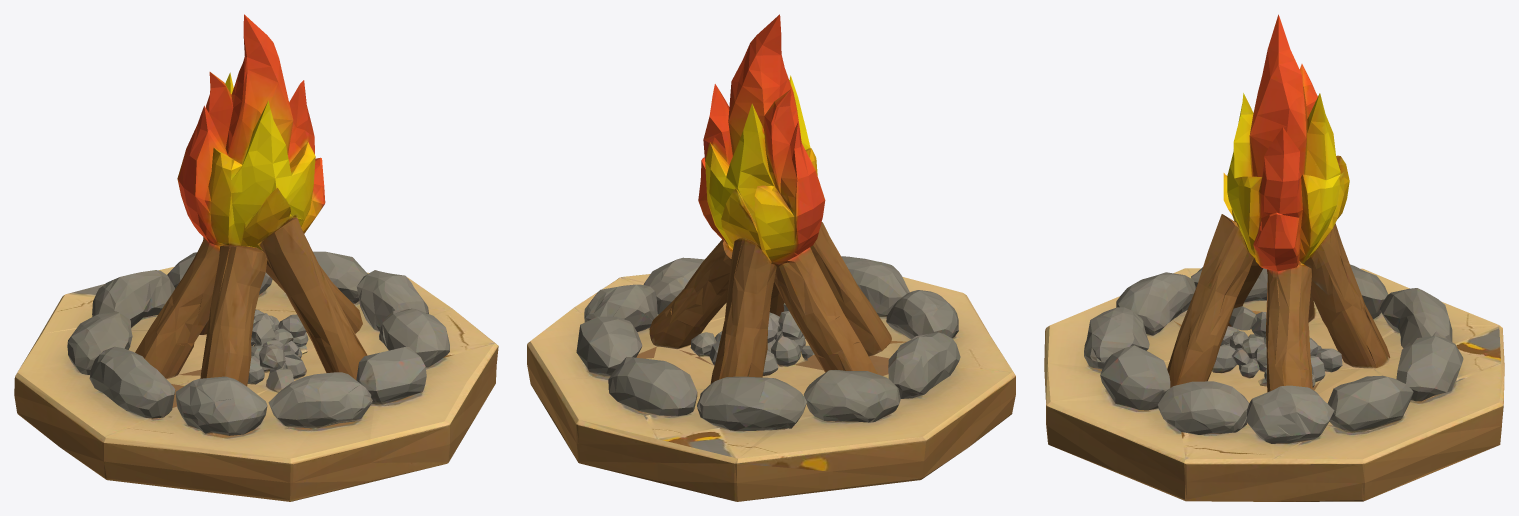
Rendered from island-bonfire.glb.
The picture shows the model from 3 angles, left to right: view 1: azimuth 30°, elevation 25°; view 2: azimuth 150°, elevation 25°; view 3: azimuth 270°, elevation 25°; orthographic projection.
Parts seen in each view (by area): view 1: tripo_node_1a4b62d1-707a-4da2-a524-2340071a0818; view 2: tripo_node_1a4b62d1-707a-4da2-a524-2340071a0818; view 3: tripo_node_1a4b62d1-707a-4da2-a524-2340071a0818.
Boxes of the visible parts, bbox=[...] form: tripo_node_1a4b62d1-707a-4da2-a524-2340071a0818: bbox=[14, 14, 498, 501]; tripo_node_1a4b62d1-707a-4da2-a524-2340071a0818: bbox=[527, 14, 1015, 501]; tripo_node_1a4b62d1-707a-4da2-a524-2340071a0818: bbox=[1044, 14, 1504, 501].
Size of the model in its own units: 0.998 by 0.9277 by 0.998.
1 material, 1 textured.
